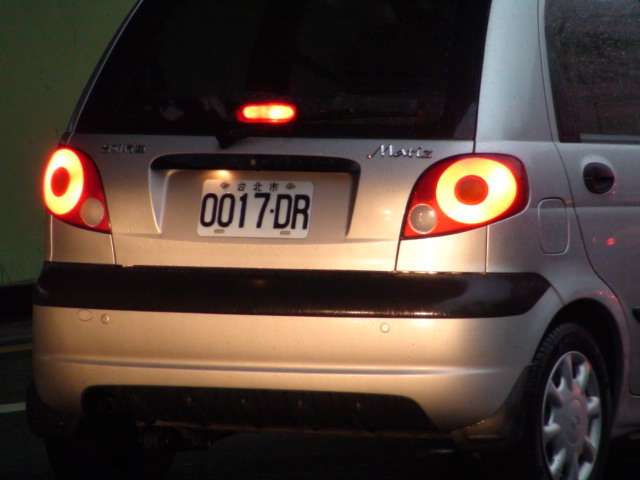plate: (196, 174, 316, 240)
